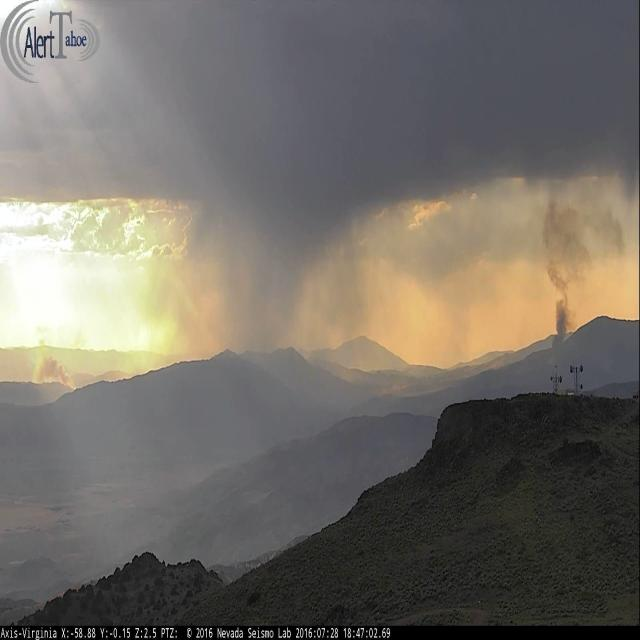smoke: (549, 200, 623, 363), (33, 350, 77, 392)
